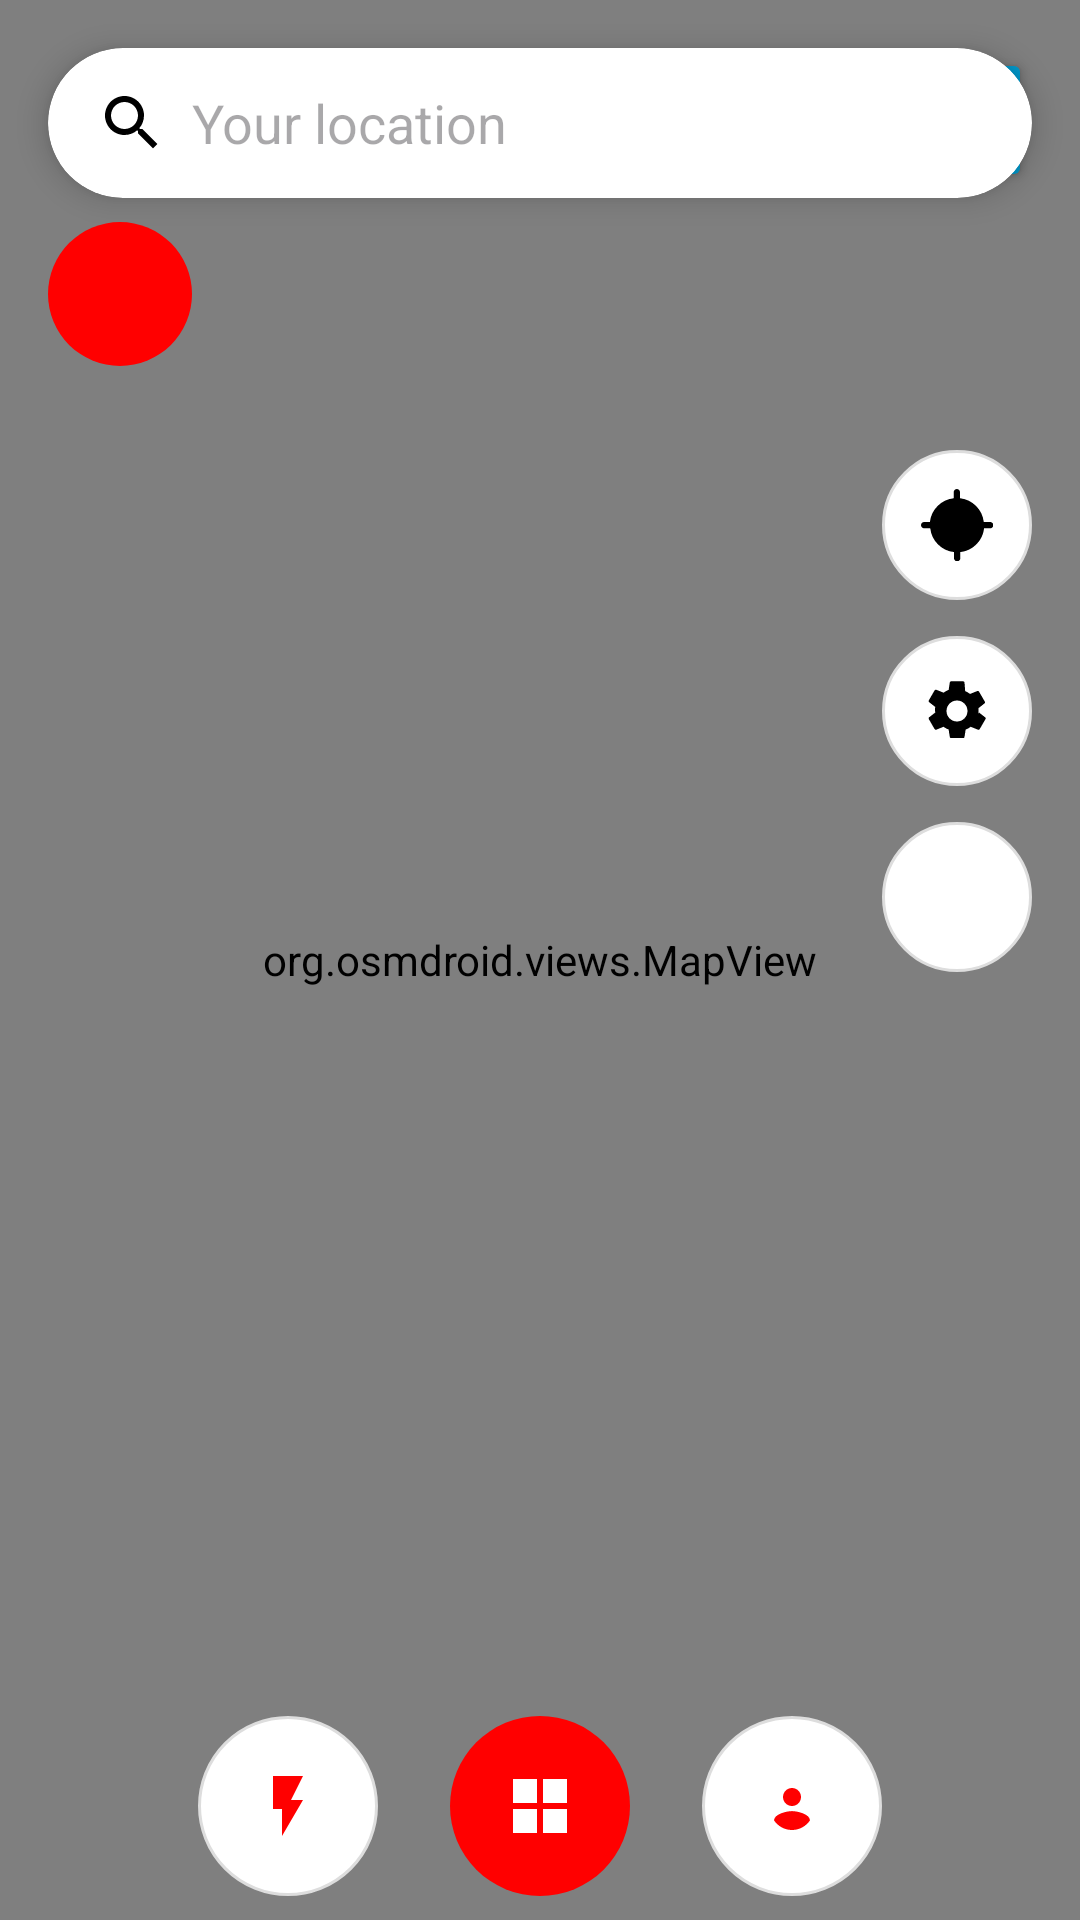

Point at icon controls on the screen. Image size 1080×1920, points as point (x, y).
grid: point (540, 1806)
location: point (957, 525)
redman: point (792, 1806)
search: point (131, 122)
settings: point (957, 711)
